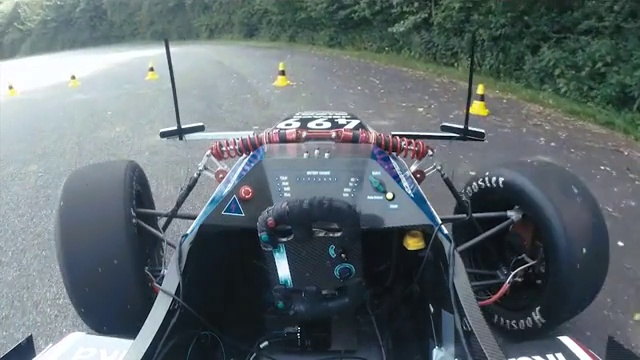Cone: (467, 82, 491, 114), (272, 61, 292, 87)
